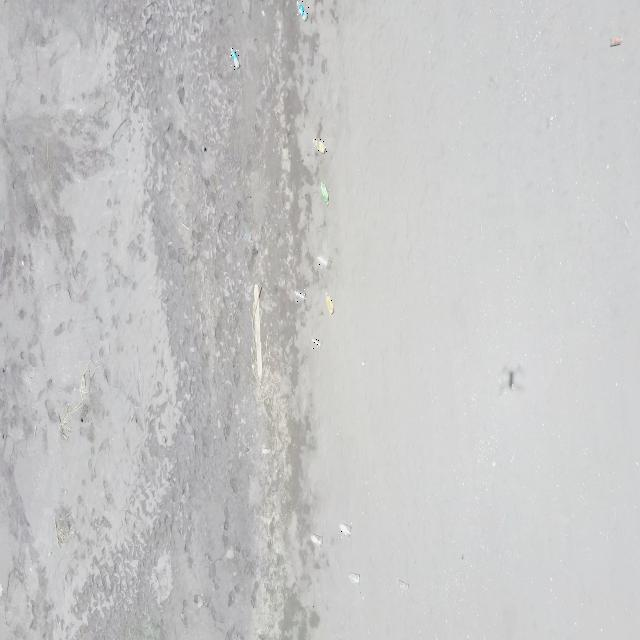plastic-bottle: (298, 1, 310, 22), (314, 139, 328, 155), (320, 183, 330, 205), (230, 48, 240, 70), (326, 292, 334, 315)
takeaway-cup: (339, 522, 352, 538), (349, 572, 362, 586), (294, 289, 306, 304), (311, 534, 323, 548), (317, 255, 329, 269), (397, 580, 409, 594), (312, 338, 322, 350)
